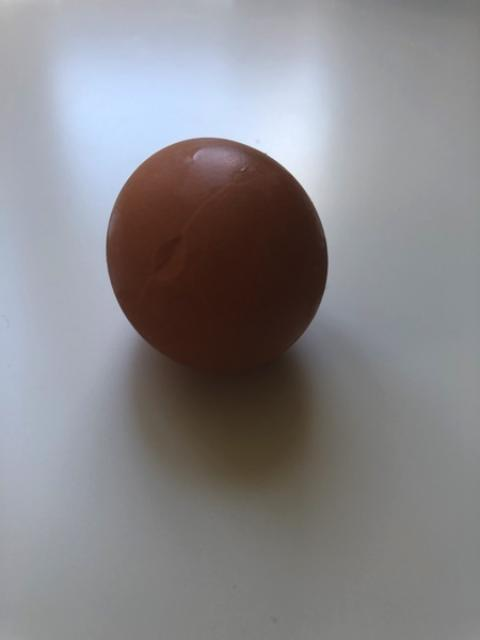Roto: (105, 134, 329, 373)
